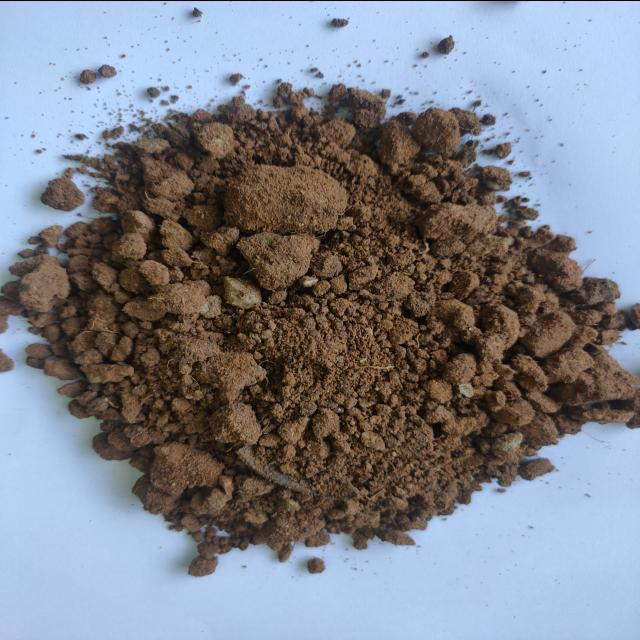soil: (111, 170, 513, 464)
